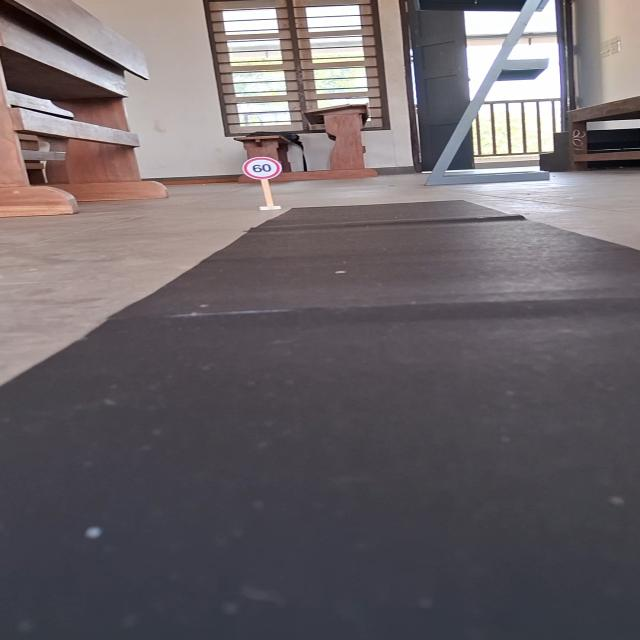Speed60: (240, 156, 282, 181)
